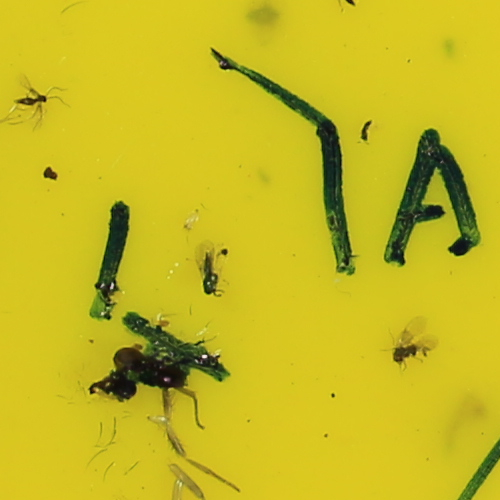Psyllaephagus: (197, 248, 227, 297)
